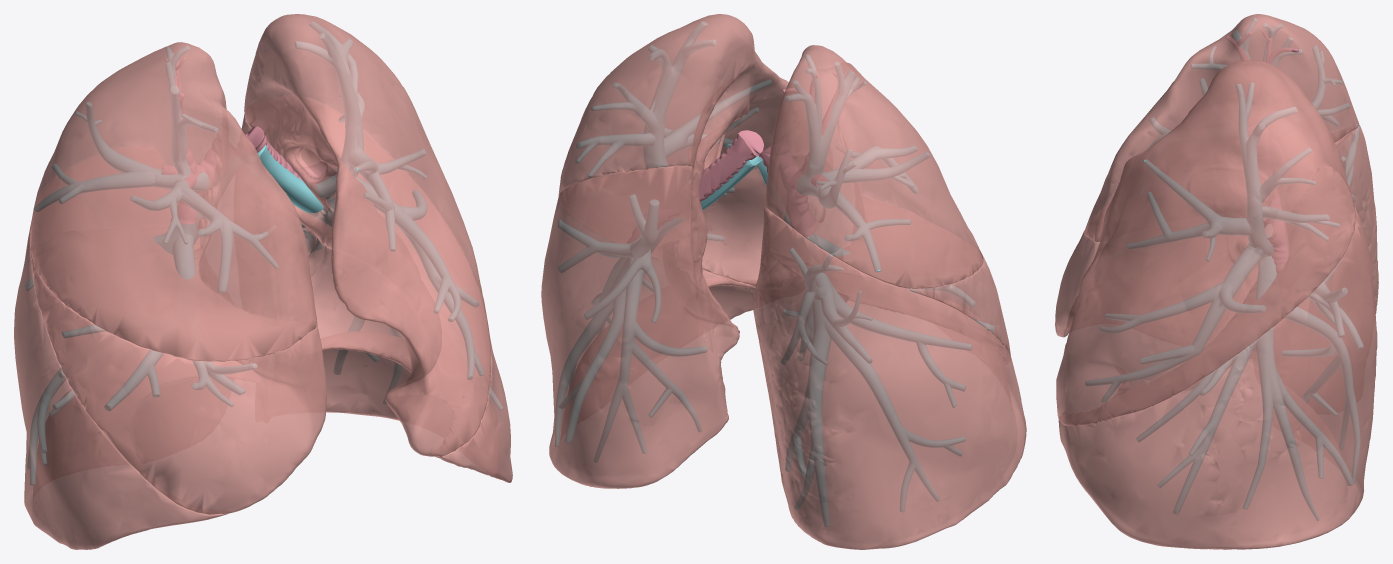
The model's file is Lung.glb.
3 views of the same model, side by side, from view 1: azimuth 30°, elevation 25°; view 2: azimuth 150°, elevation 25°; view 3: azimuth 270°, elevation 25° (orthographic). The views are drawn at different scales.
Visible parts, largest first — view 1: Object_63, Object_62, Object_2, Object_64, Object_67; view 2: Object_62, Object_63, Object_64, Object_2, Object_67; view 3: Object_63, Object_64, Object_2, Object_62, Object_67.
Boxes of the visible parts, box(x1,y1,x2,y2) form: Object_63: box(30, 14, 490, 456); Object_62: box(14, 146, 326, 549); Object_2: box(25, 21, 503, 485); Object_64: box(241, 96, 512, 482); Object_67: box(161, 57, 336, 223); Object_62: box(753, 197, 1026, 549); Object_63: box(558, 14, 983, 288); Object_64: box(541, 165, 755, 488); Object_2: box(555, 21, 994, 526); Object_67: box(627, 71, 854, 243); Object_63: box(1056, 14, 1359, 425); Object_64: box(1058, 165, 1377, 549); Object_2: box(1085, 17, 1363, 520); Object_62: box(1055, 125, 1378, 337); Object_67: box(1226, 30, 1298, 272).
Size of the model in its own units: 0.2617 by 0.2674 by 0.1869.
